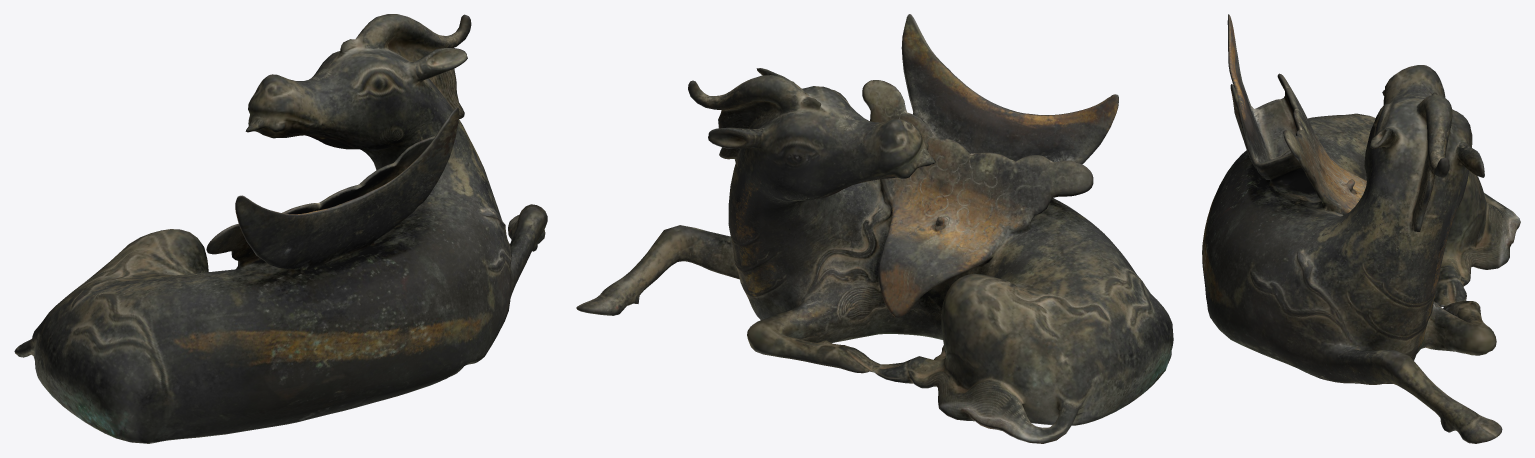
The model's file is MTY000789.glb.
3 renders of one model, left to right at view 1: azimuth 30°, elevation 25°; view 2: azimuth 150°, elevation 25°; view 3: azimuth 270°, elevation 25°, orthographic. The views are drawn at different scales.
Visible parts, largest first — view 1: MTY000789_MTY000789_low.001; view 2: MTY000789_MTY000789_low.001; view 3: MTY000789_MTY000789_low.001.
Boxes of the visible parts, left/top/right/bottom form: MTY000789_MTY000789_low.001: left=14, top=14, right=547, bottom=443; MTY000789_MTY000789_low.001: left=576, top=14, right=1173, bottom=443; MTY000789_MTY000789_low.001: left=1202, top=14, right=1520, bottom=443.
Size of the model in its own units: 82.05 by 41.41 by 43.83.
Materials: 1 (1 with a texture image).
